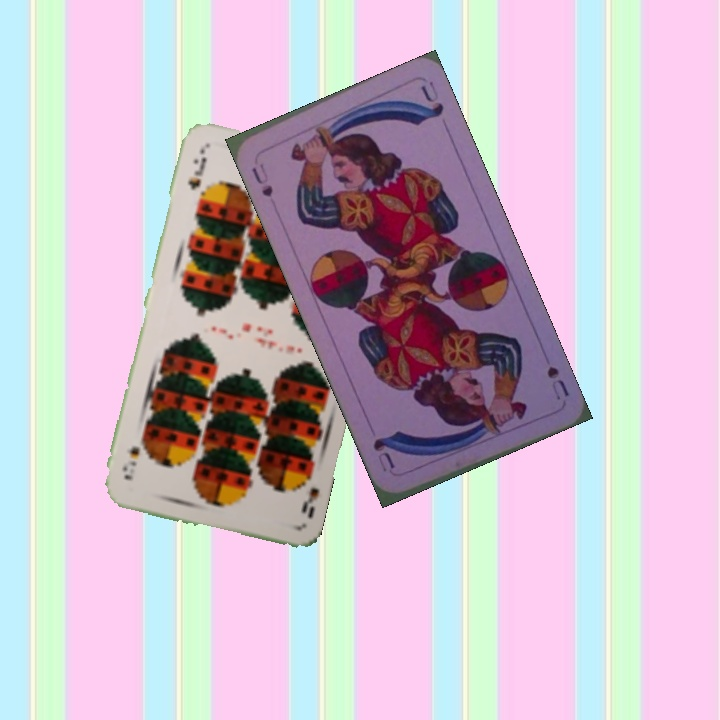S9: (295, 467, 322, 521), (184, 143, 210, 192)
SU: (540, 360, 572, 403), (247, 159, 276, 200)
